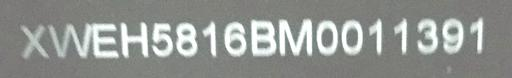letter: (45, 21, 93, 59), (277, 16, 315, 60), (116, 19, 150, 60), (248, 17, 278, 61), (18, 22, 52, 59), (90, 20, 120, 61), (220, 19, 248, 60), (440, 15, 466, 57), (339, 17, 365, 58), (172, 21, 200, 59), (414, 16, 440, 56), (314, 18, 340, 58), (149, 20, 175, 60), (390, 14, 410, 58), (200, 19, 220, 59), (467, 15, 485, 57), (366, 16, 384, 58)
